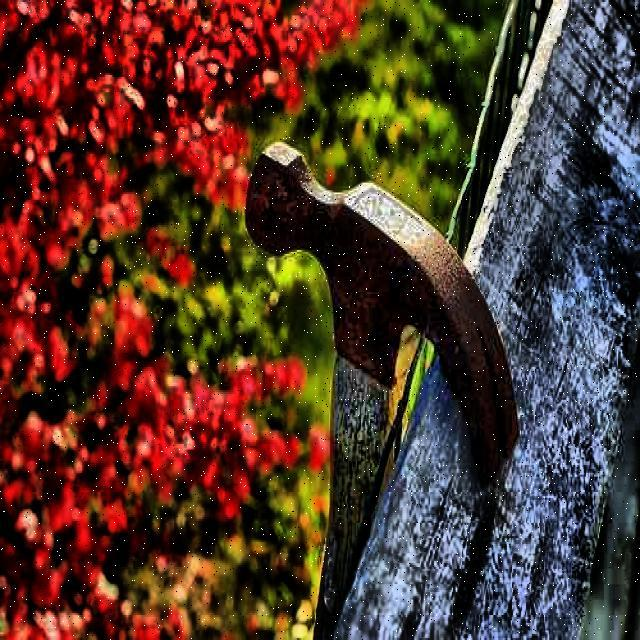hammer: (231, 140, 524, 640)
